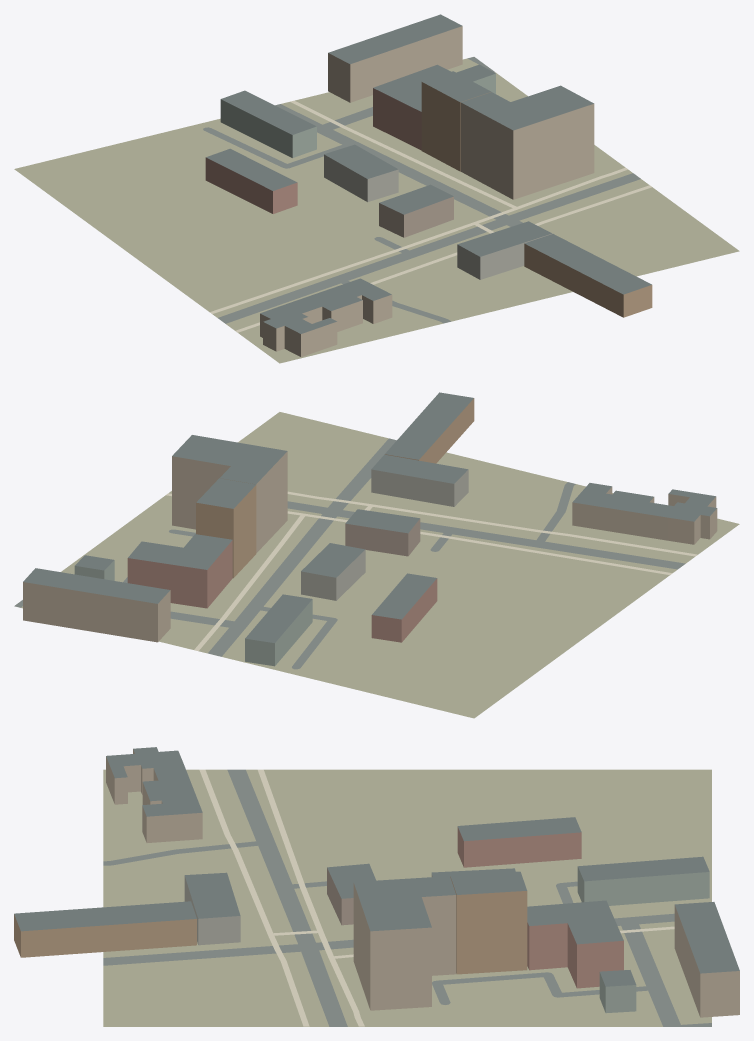
The model's file is sector-2_-1.glb.
The picture shows the model from 3 angles, top to bottom: view 1: azimuth 30°, elevation 25°; view 2: azimuth 150°, elevation 25°; view 3: azimuth 270°, elevation 25°; orthographic projection. The views are drawn at different scales.
Visible parts, largest first — view 1: 2:-1-ground, 2:-1-facade, 2:-1-roof, 2:-1-road, 2:-1-paving; view 2: 2:-1-ground, 2:-1-facade, 2:-1-roof, 2:-1-road, 2:-1-paving; view 3: 2:-1-ground, 2:-1-facade, 2:-1-roof, 2:-1-road, 2:-1-paving.
Boxes of the visible parts, bbox=[...] form: 2:-1-ground: bbox=[14, 58, 739, 363]; 2:-1-facade: bbox=[205, 26, 652, 356]; 2:-1-roof: bbox=[206, 14, 651, 333]; 2:-1-road: bbox=[203, 57, 640, 323]; 2:-1-paving: bbox=[210, 100, 652, 332]; 2:-1-ground: bbox=[21, 412, 739, 718]; 2:-1-facade: bbox=[23, 398, 717, 666]; 2:-1-roof: bbox=[23, 392, 716, 642]; 2:-1-road: bbox=[14, 438, 685, 669]; 2:-1-paving: bbox=[166, 491, 697, 650]; 2:-1-ground: bbox=[103, 769, 711, 1026]; 2:-1-facade: bbox=[14, 749, 739, 1017]; 2:-1-roof: bbox=[14, 747, 739, 986]; 2:-1-road: bbox=[103, 769, 711, 1026]; 2:-1-paving: bbox=[199, 769, 674, 1026].
Bounding box in the file's own units: 200 × 28.8 × 239.
